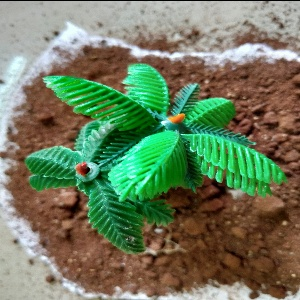plant: (26, 64, 285, 252)
